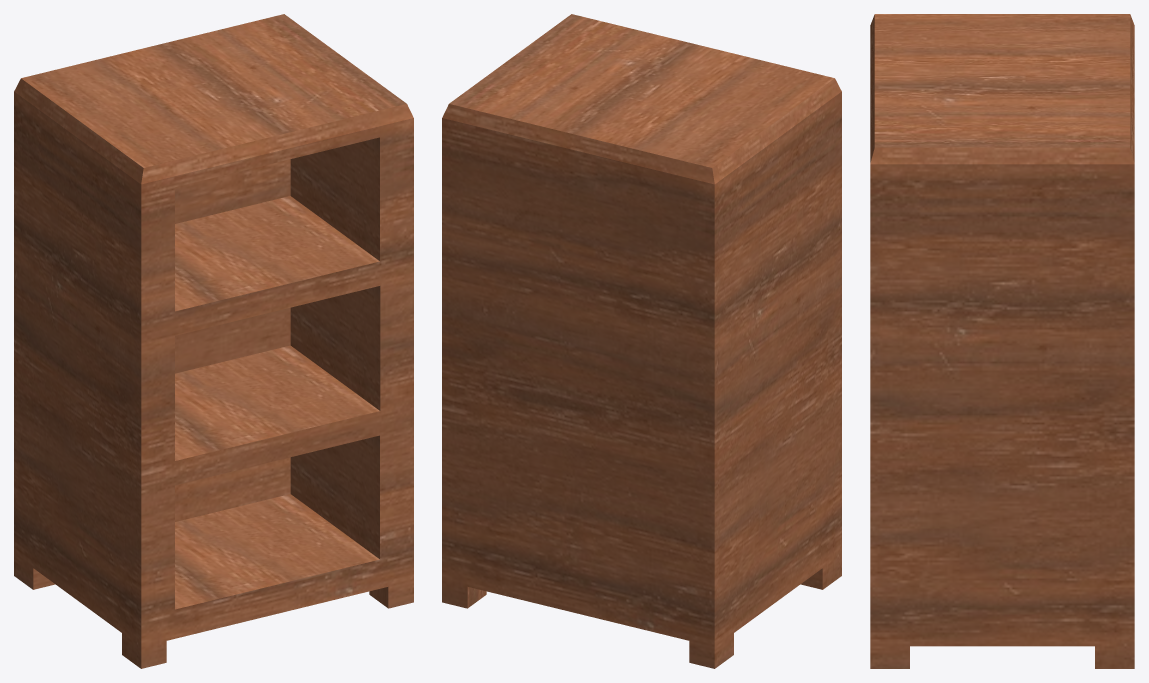
Rendered from shelf-small.fbx.
3 views of the same model, side by side, from view 1: azimuth 30°, elevation 25°; view 2: azimuth 150°, elevation 25°; view 3: azimuth 270°, elevation 25° (orthographic). The views are drawn at different scales.
Parts seen in each view (by area): view 1: Cube.002; view 2: Cube.002; view 3: Cube.002.
Part boxes in pixels (left/top/right/bottom): Cube.002: left=14, top=14, right=413, bottom=668; Cube.002: left=442, top=14, right=841, bottom=668; Cube.002: left=870, top=14, right=1134, bottom=668.
Size of the model in its own units: 248 by 433 by 200.
